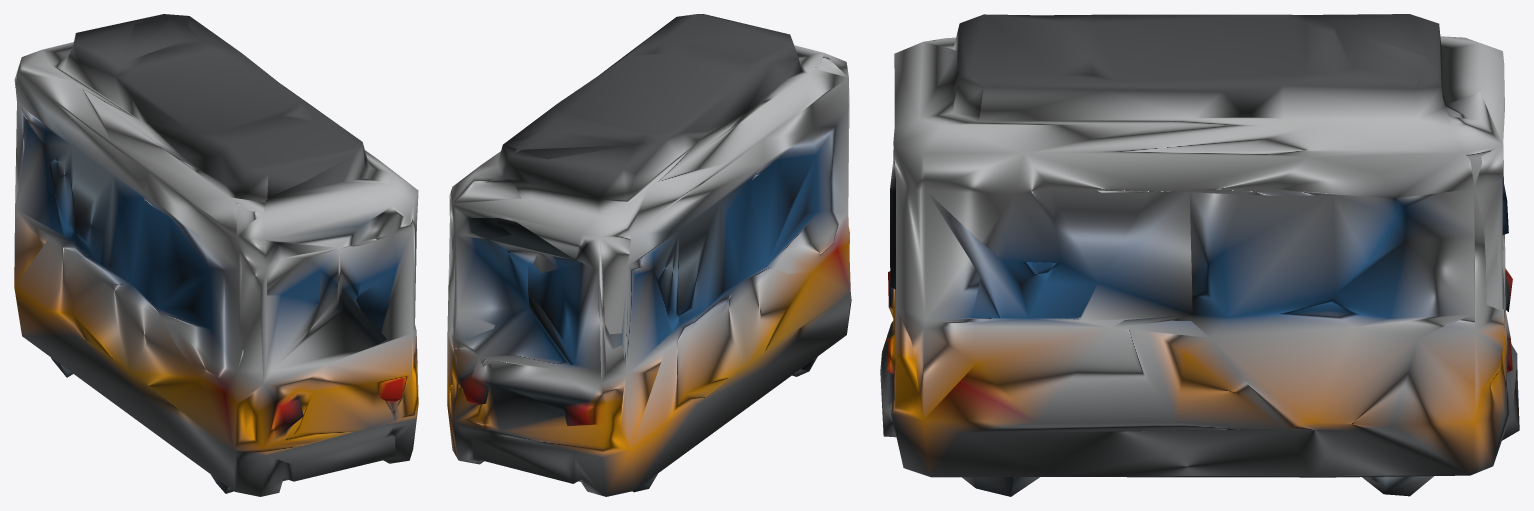
The model's file is gen3d-tram-lod1.glb.
3 renders of one model, left to right at view 1: azimuth 30°, elevation 25°; view 2: azimuth 150°, elevation 25°; view 3: azimuth 270°, elevation 25°, orthographic. The views are drawn at different scales.
Visible parts, largest first — view 1: part_0; view 2: part_0; view 3: part_0.
Boxes of the visible parts, <box> form: part_0: <box>14,14,418,496</box>; part_0: <box>447,14,851,496</box>; part_0: <box>880,14,1519,496</box>.
Size of the model in its own units: 0.6027 by 0.996 by 1.42.
